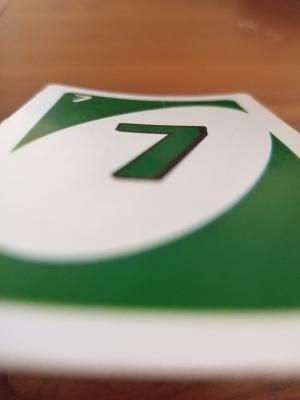green: (62, 93, 283, 326)
